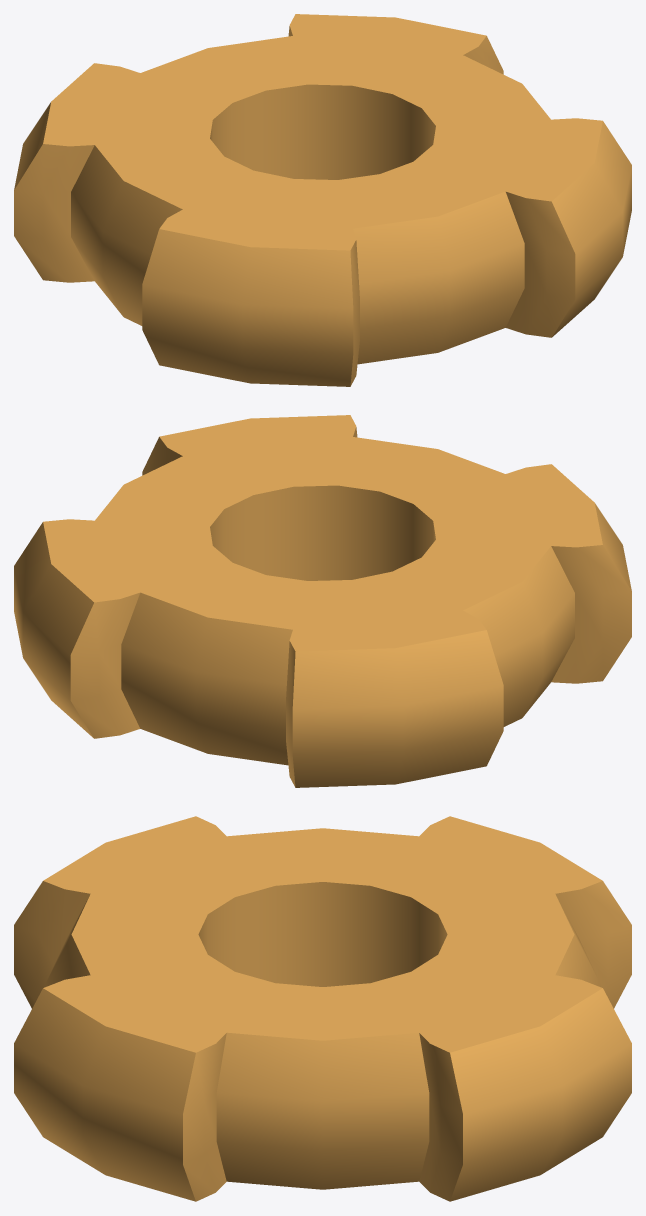
Rendered from Gear_4P_02.fbx.
3 renders of one model, top to bottom at view 1: azimuth 30°, elevation 25°; view 2: azimuth 150°, elevation 25°; view 3: azimuth 270°, elevation 25°, orthographic. The views are drawn at different scales.
Parts seen in each view (by area): view 1: Gear_4P_02; view 2: Gear_4P_02; view 3: Gear_4P_02.
Boxes of the visible parts, x1=… form: Gear_4P_02: x1=14, y1=14, x2=631, y2=386; Gear_4P_02: x1=14, y1=415, x2=631, y2=787; Gear_4P_02: x1=14, y1=816, x2=631, y2=1201.
Bounding box in the file's own units: 376 × 100 × 376.
